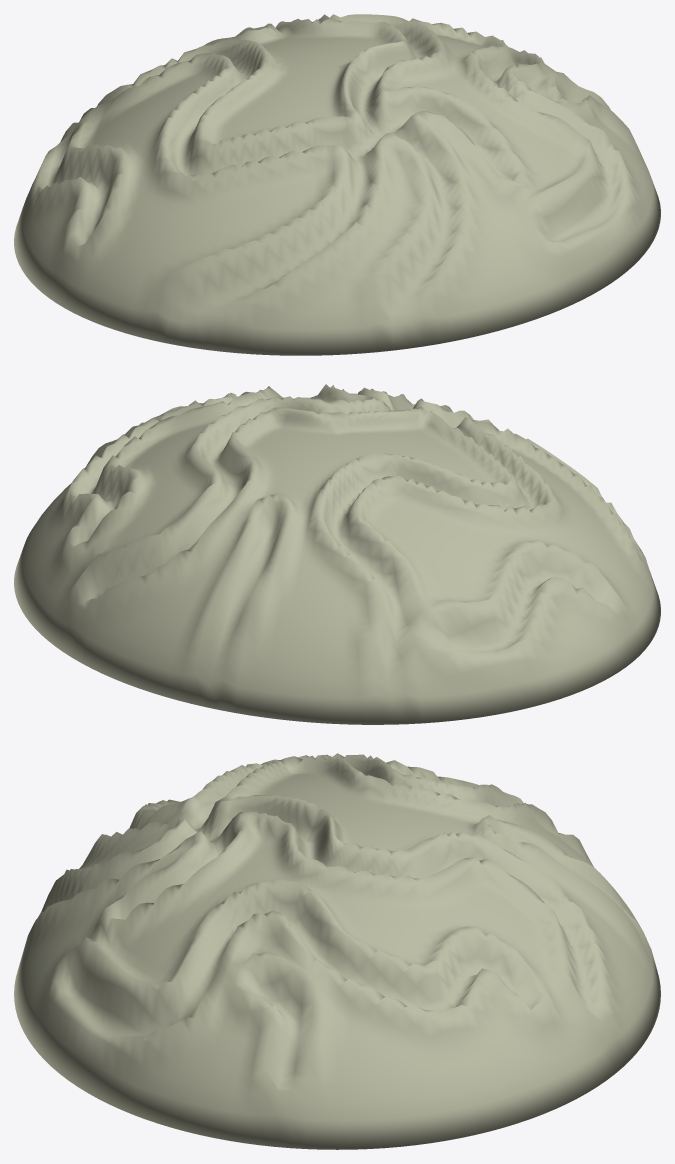
Rendered from meandrina.glb.
The picture shows the model from 3 angles, top to bottom: view 1: azimuth 30°, elevation 25°; view 2: azimuth 150°, elevation 25°; view 3: azimuth 270°, elevation 25°; orthographic projection. The views are drawn at different scales.
Parts seen in each view (by area): view 1: continuous-mound-with-sculpted-meandering-valleys; view 2: continuous-mound-with-sculpted-meandering-valleys; view 3: continuous-mound-with-sculpted-meandering-valleys.
Part boxes in pixels (x1,y1,x2,y2): continuous-mound-with-sculpted-meandering-valleys: (14,14,660,355); continuous-mound-with-sculpted-meandering-valleys: (14,384,660,724); continuous-mound-with-sculpted-meandering-valleys: (14,753,660,1149).
Size of the model in its own units: 0.18 by 0.0594 by 0.158.
